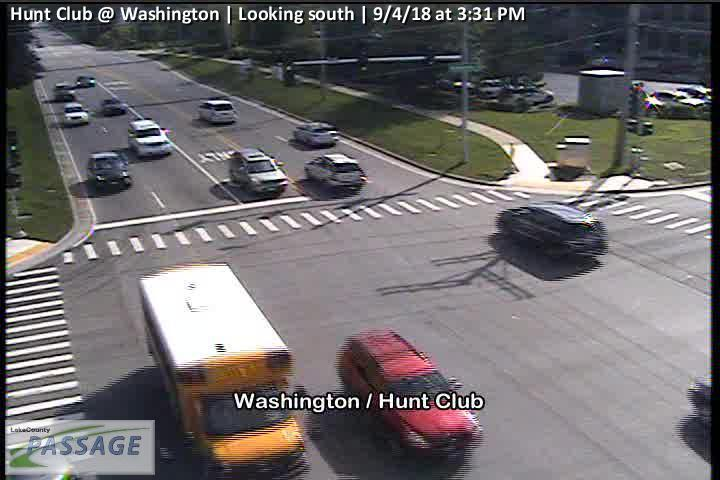SUV: (335, 325, 483, 462), (229, 148, 289, 196), (128, 117, 172, 159), (199, 99, 235, 123)
Sedan: (495, 201, 609, 256), (304, 153, 367, 195), (87, 150, 132, 192), (647, 90, 705, 116), (292, 120, 342, 148), (498, 85, 554, 107), (62, 101, 89, 125), (102, 96, 128, 115), (53, 82, 76, 100), (75, 75, 96, 87)
Truck: (137, 260, 311, 480)
